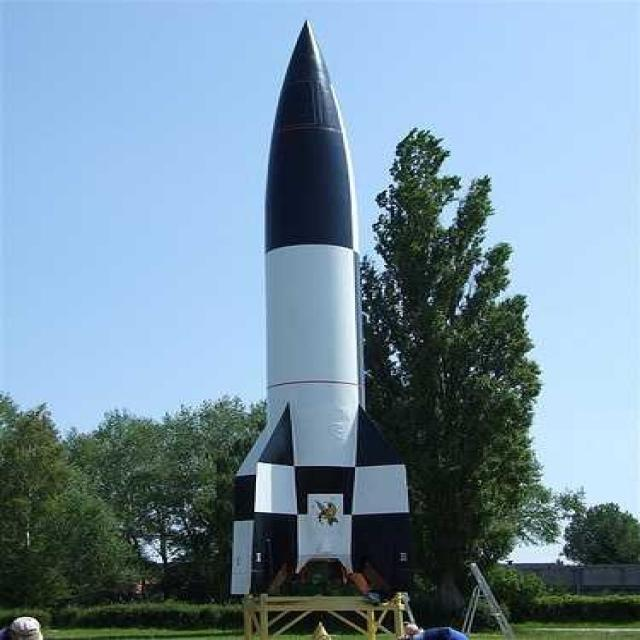missile: (215, 21, 412, 606)
